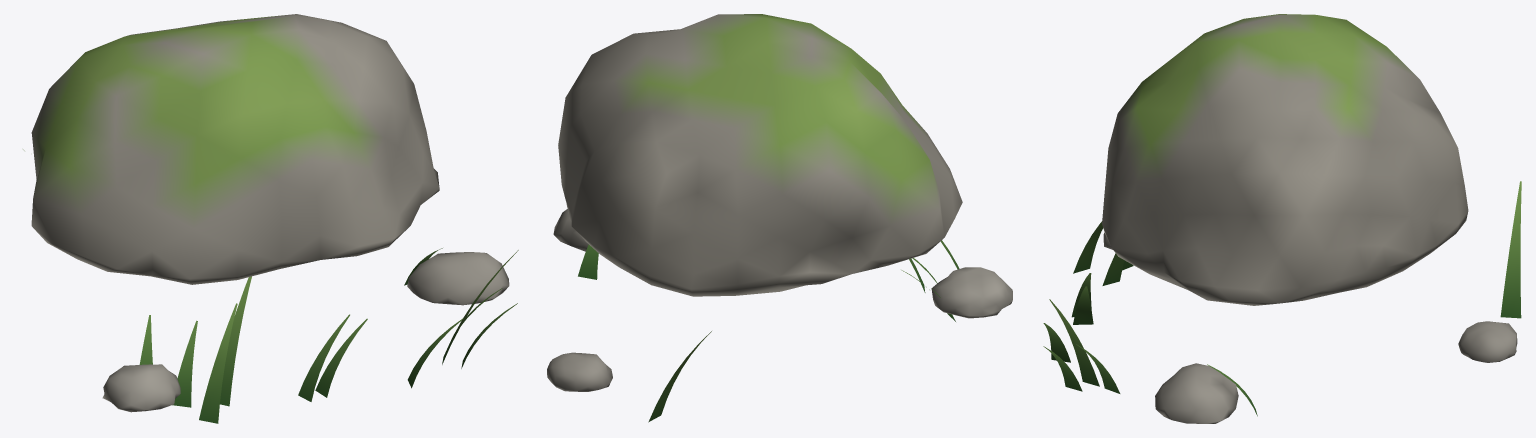
File: piedra.glb
The picture shows the model from 3 angles, left to right: view 1: azimuth 30°, elevation 25°; view 2: azimuth 150°, elevation 25°; view 3: azimuth 270°, elevation 25°; orthographic projection. The views are drawn at different scales.
Visible parts, largest first — view 1: piedra_malla; view 2: piedra_malla; view 3: piedra_malla.
Part boxes in pixels (left/top/right/bottom): piedra_malla: left=23, top=14, right=518, bottom=423; piedra_malla: left=547, top=14, right=1012, bottom=422; piedra_malla: left=1043, top=14, right=1521, bottom=423.
Bounding box in the file's own units: 0.6957 × 0.4631 × 0.6921.
